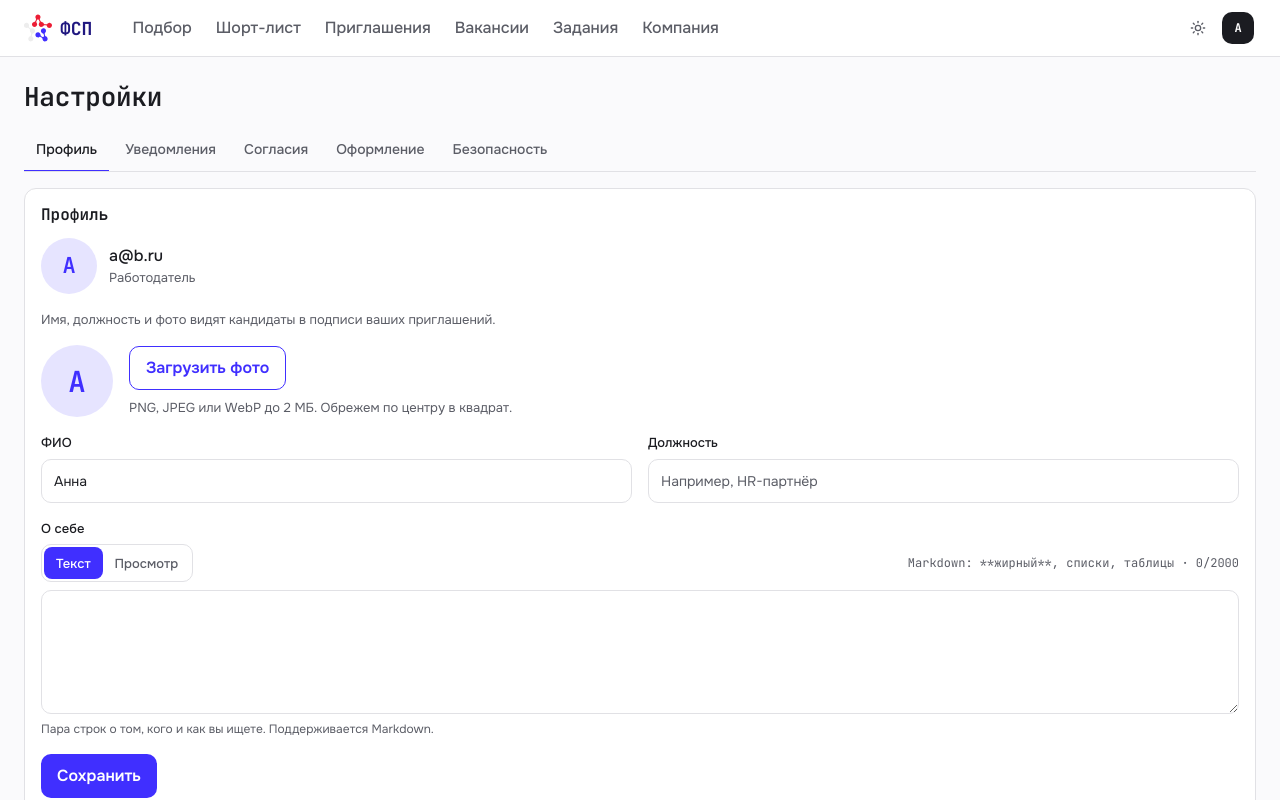
Scenario: работодатель: личный профиль уходит в PATCH /me/profile, компания — ссылкой с ролью
Check: the field with test id "settings-full-name" holds "Анна", box [41,459,632,503]
Type "HR-партнёр" into the field with test id "settings-position" at point(944, 481), box [648,459,1239,503]
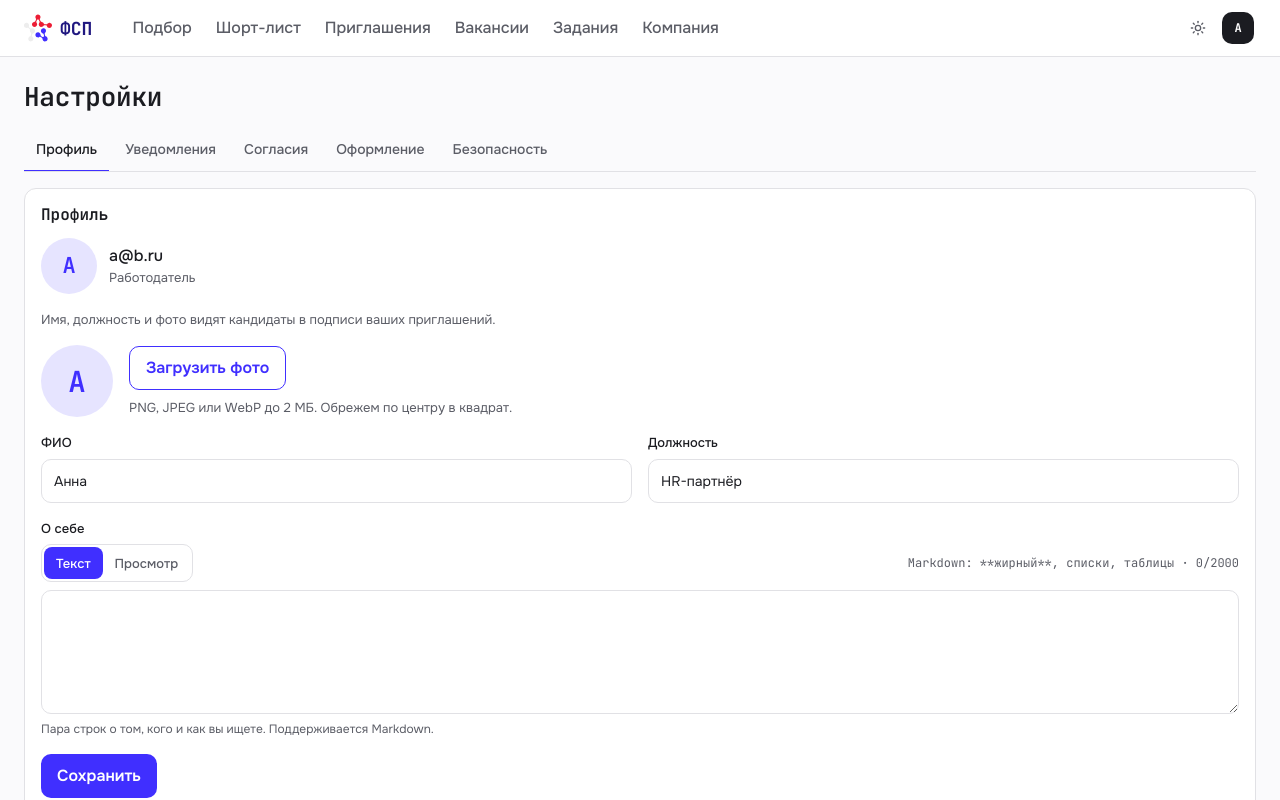
Type "**Ищу** бэкендеров" into the text box with test id "settings-about" at point(640, 652), box [41,590,1239,714]
(page scrolled)
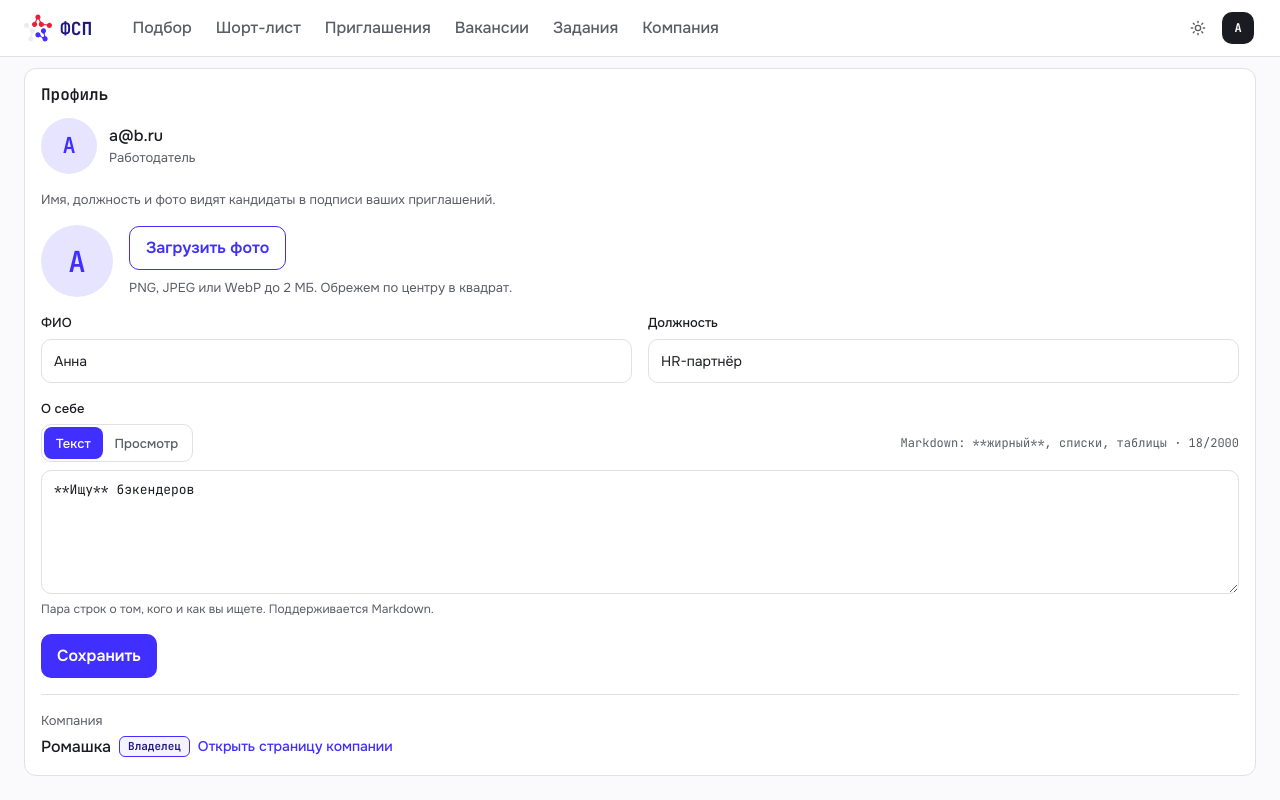
Submit the form with test id "settings-profile-form"
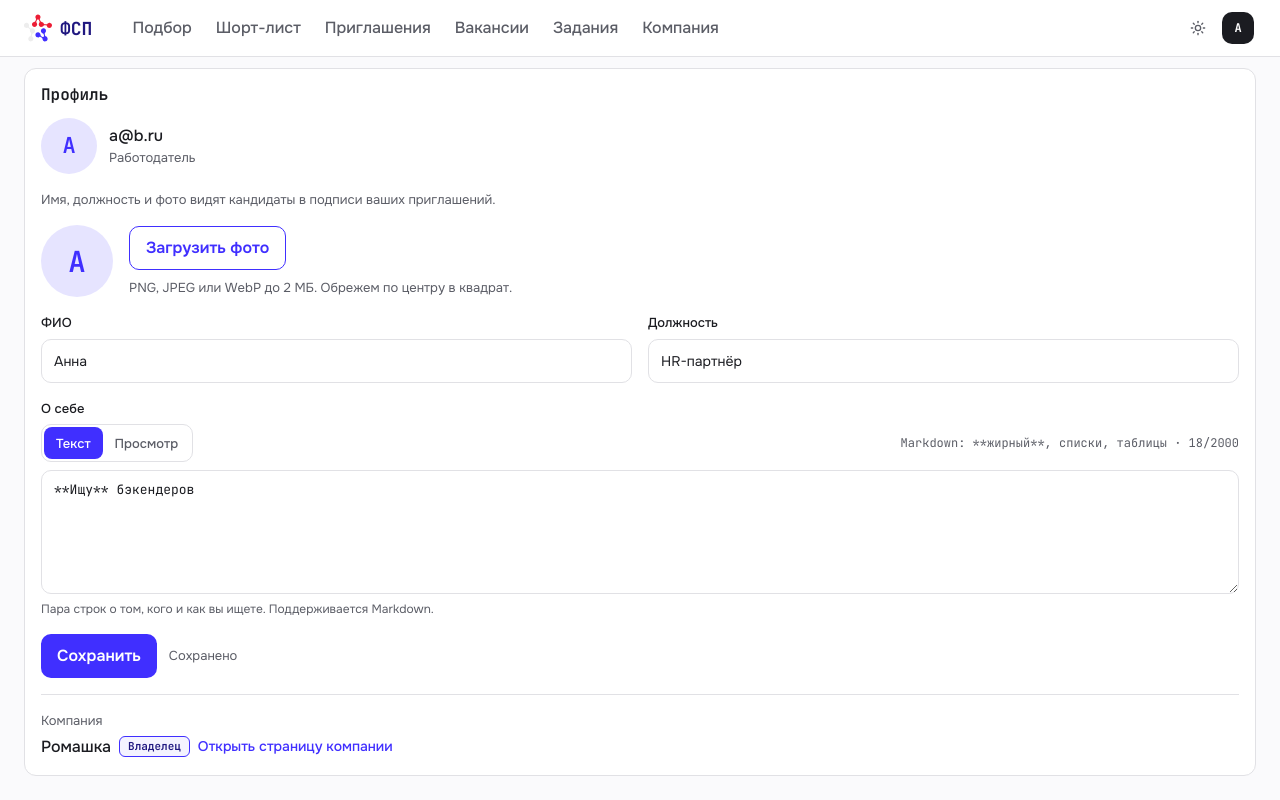
Check: the text with test id "settings-company-role" reads "Владелец", box [128,739,181,753]
Check: the message "Сохранено" is shown, box [169,646,237,666]
